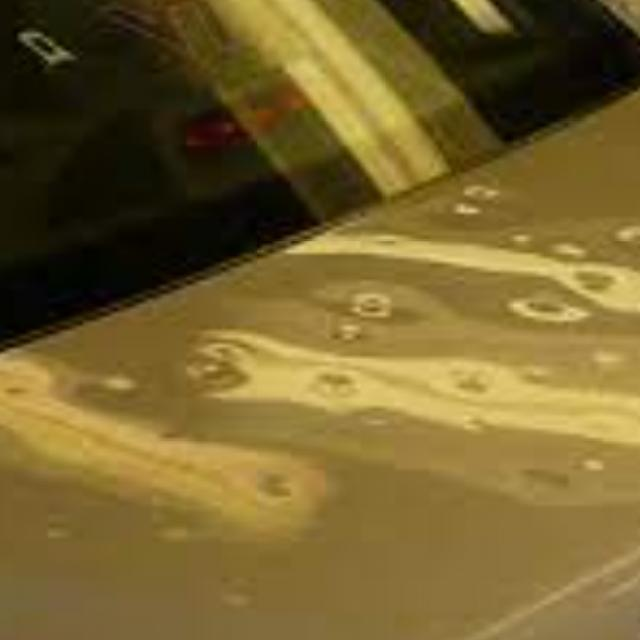dents: (498, 288, 601, 346), (196, 336, 255, 402), (32, 492, 90, 558), (512, 448, 572, 503), (74, 371, 141, 414), (257, 462, 306, 518), (329, 316, 378, 362), (159, 504, 204, 554), (352, 286, 400, 331), (217, 578, 266, 619), (300, 370, 359, 404), (589, 344, 640, 381), (440, 198, 484, 240), (457, 364, 498, 405), (561, 231, 596, 275), (521, 366, 566, 393), (580, 449, 607, 487), (371, 228, 405, 258), (614, 219, 640, 257), (511, 217, 536, 253), (5, 377, 33, 403)
